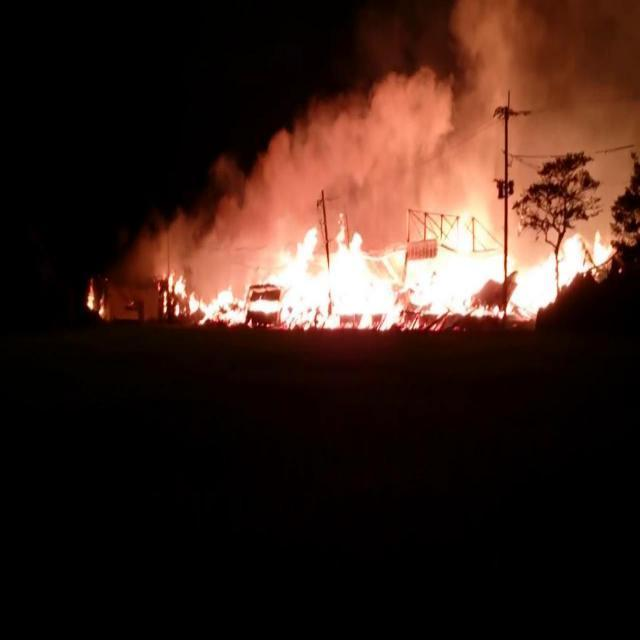Fire: (160, 202, 620, 332)
Smoke: (224, 0, 638, 195)
